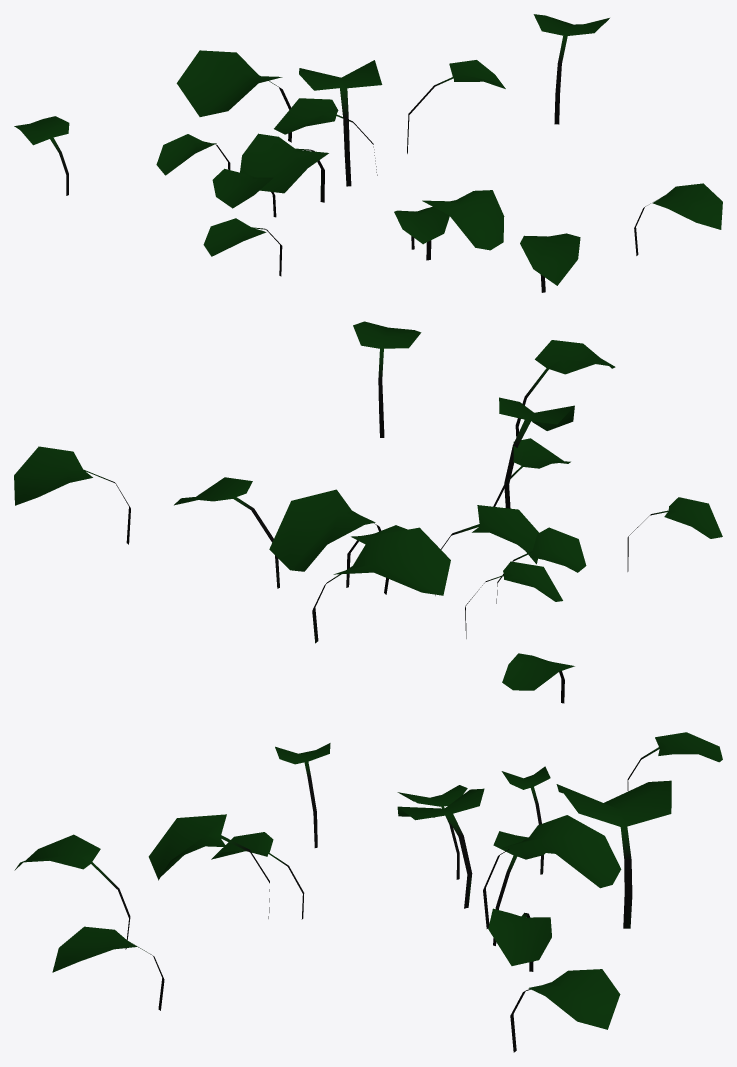
File: GroundIviGCATA_Dense_D.fbx
The picture shows the model from 3 angles, top to bottom: view 1: azimuth 30°, elevation 25°; view 2: azimuth 150°, elevation 25°; view 3: azimuth 270°, elevation 25°; orthographic projection. The views are drawn at different scales.
Visible parts, largest first — view 1: GIGCATADD_LOD0; view 2: GIGCATADD_LOD0; view 3: GIGCATADD_LOD0.
Part boxes in pixels (x1=…): GIGCATADD_LOD0: x1=14, y1=14, x2=722, y2=292; GIGCATADD_LOD0: x1=14, y1=321, x2=722, y2=703; GIGCATADD_LOD0: x1=14, y1=732, x2=722, y2=1052.
Size of what is drawn, in the model's own units: 1.49 by 0.2551 by 1.48.
